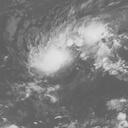cyclone: (27, 13, 125, 80)
